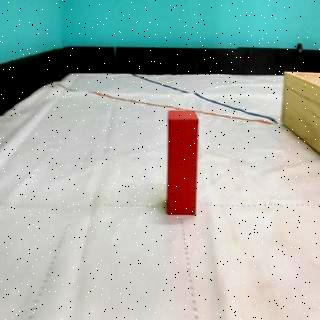redbox: (167, 108, 197, 215)
